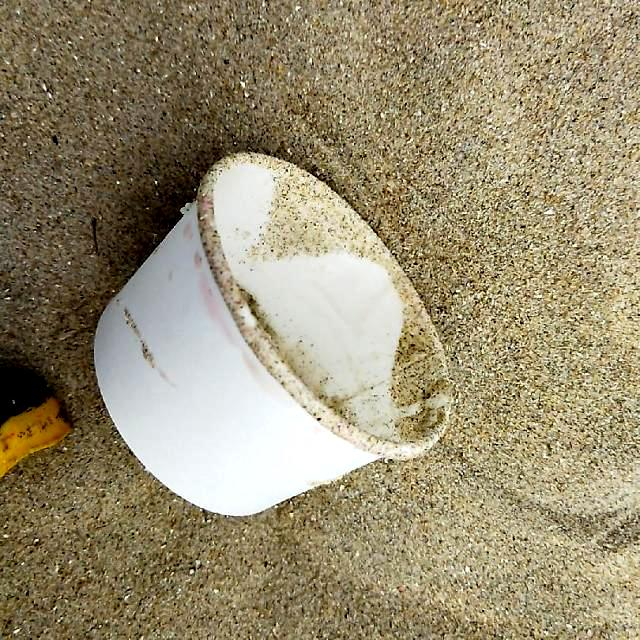Paper: (89, 144, 454, 518)
